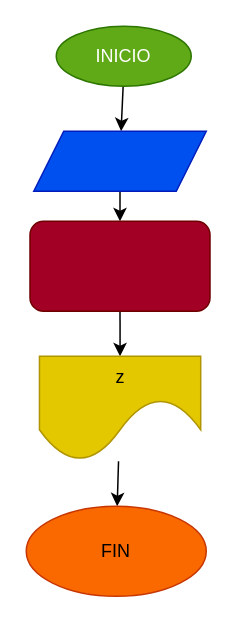
Image size: 237x623. Some labels were removed from this diagram. The centre of each missing label's shape, as x and y in pixels:
x, y: pixel 119 160
z = x ^ y: pixel 119 265
